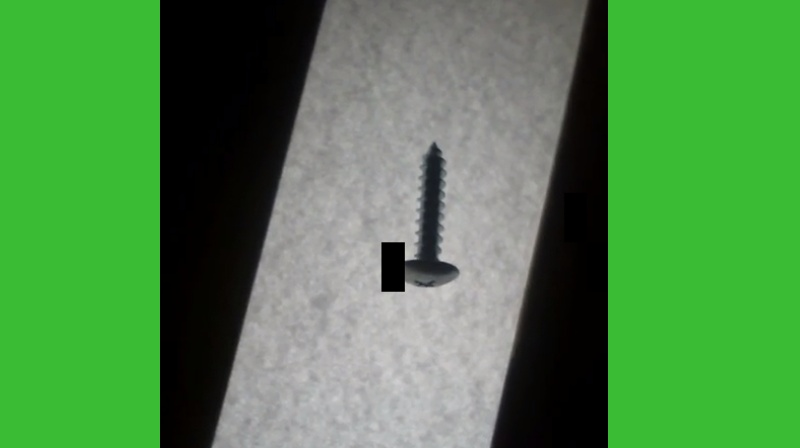S003: (391, 135, 463, 291)
